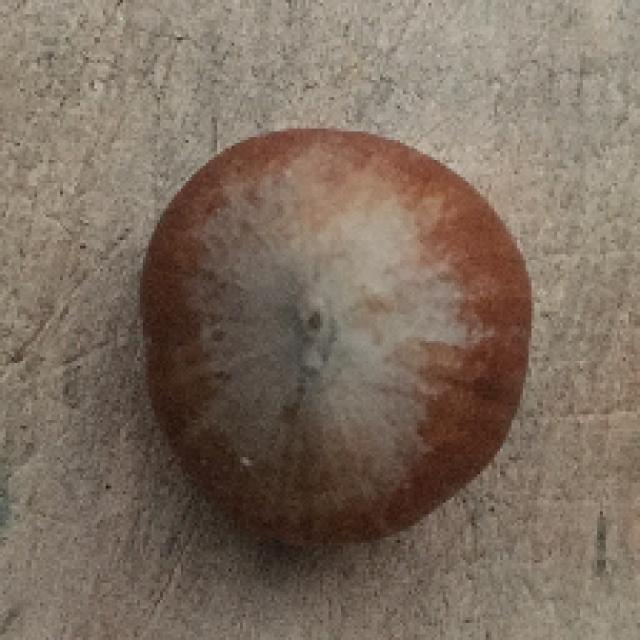qualityHazelnut: (139, 124, 537, 556)
